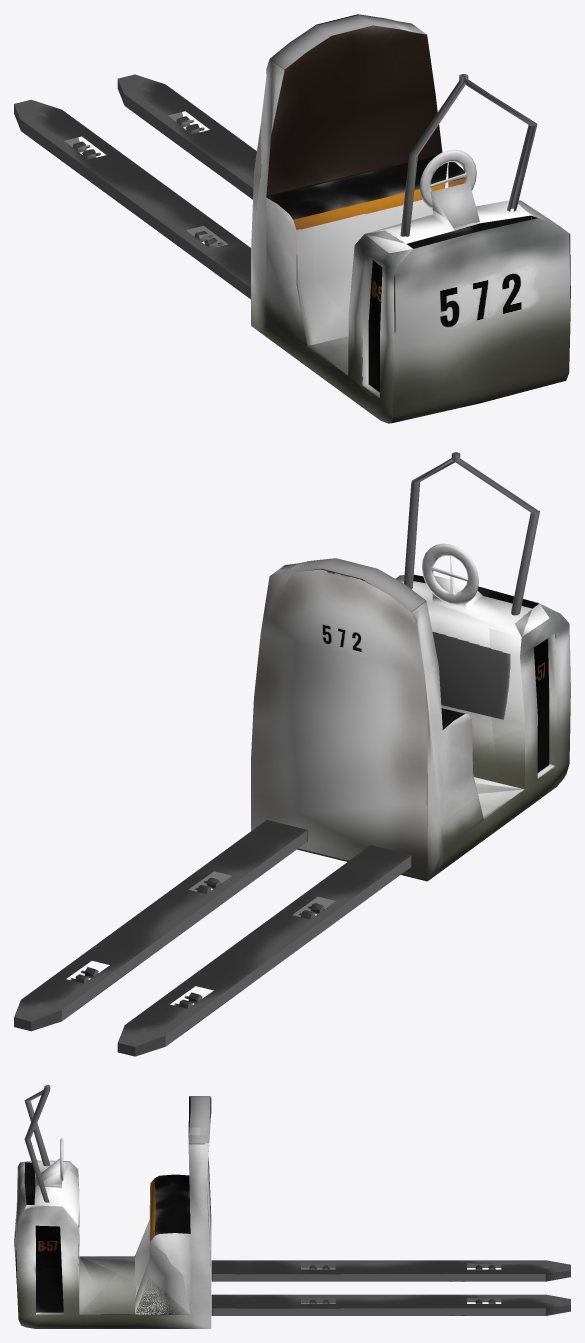
Rendered from Kerayskone.fbx.
3 views of the same model, one above another, from view 1: azimuth 30°, elevation 25°; view 2: azimuth 150°, elevation 25°; view 3: azimuth 270°, elevation 25° (orthographic). The views are drawn at different scales.
Visible parts, largest first — view 1: Body, LeftTail.001, LeftTail, Cylinder, Torus; view 2: Body, LeftTail.001, LeftTail, Cylinder, Torus; view 3: Body, LeftTail.001, LeftTail, Cylinder.
Part boxes in pixels (bbox=[...]): Body: bbox=[251, 14, 570, 423]; LeftTail.001: bbox=[14, 99, 250, 299]; LeftTail: bbox=[117, 74, 256, 199]; Cylinder: bbox=[400, 74, 537, 236]; Torus: bbox=[419, 149, 476, 208]; Body: bbox=[251, 558, 570, 881]; LeftTail.001: bbox=[117, 845, 411, 1056]; LeftTail: bbox=[14, 820, 307, 1031]; Cylinder: bbox=[404, 452, 539, 615]; Torus: bbox=[422, 543, 478, 604]; Body: bbox=[14, 1096, 211, 1328]; LeftTail.001: bbox=[211, 1260, 570, 1281]; LeftTail: bbox=[211, 1294, 570, 1315]; Cylinder: bbox=[24, 1085, 50, 1202].
Bounding box in the file's own units: 77.27 × 132 × 310.
